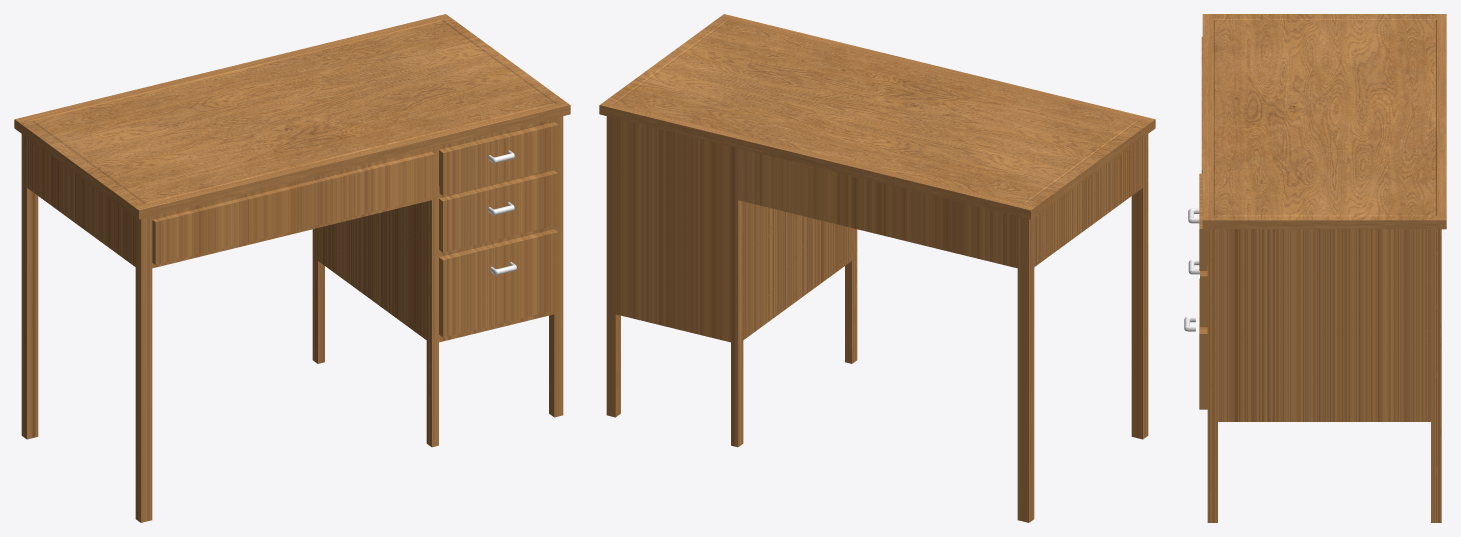
The model's file is Desk.glb.
3 views of the same model, side by side, from view 1: azimuth 30°, elevation 25°; view 2: azimuth 150°, elevation 25°; view 3: azimuth 270°, elevation 25° (orthographic). The views are drawn at different scales.
Visible parts, largest first — view 1: Desk, Drawer Large, drawer.002, drawer.001, drawer; view 2: Desk; view 3: Desk, drawer.002, drawer, drawer.001.
Part boxes in pixels (box(x1,y1,x2,y2)): Desk: box(14, 14, 570, 522); Drawer Large: box(152, 151, 434, 264); drawer.002: box(439, 229, 558, 337); drawer.001: box(439, 170, 558, 252); drawer: box(439, 122, 558, 195); Desk: box(599, 14, 1155, 522); Desk: box(1202, 14, 1446, 522); drawer.002: box(1199, 278, 1207, 409); drawer: box(1199, 173, 1207, 270); drawer.001: box(1200, 266, 1207, 326).
Size of the model in its own units: 1.52 by 1.07 by 0.8188.
2 materials, 1 textured.
